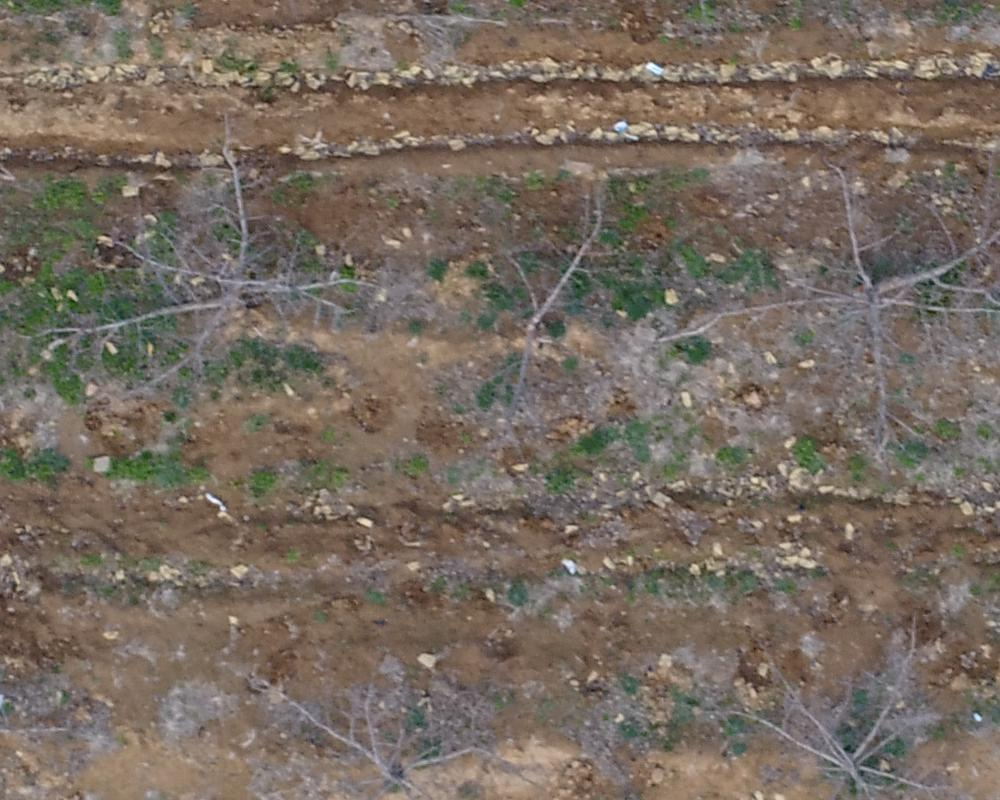apple: (32, 137, 369, 388), (670, 158, 990, 418), (454, 179, 640, 449), (729, 628, 957, 790), (249, 663, 514, 790)
